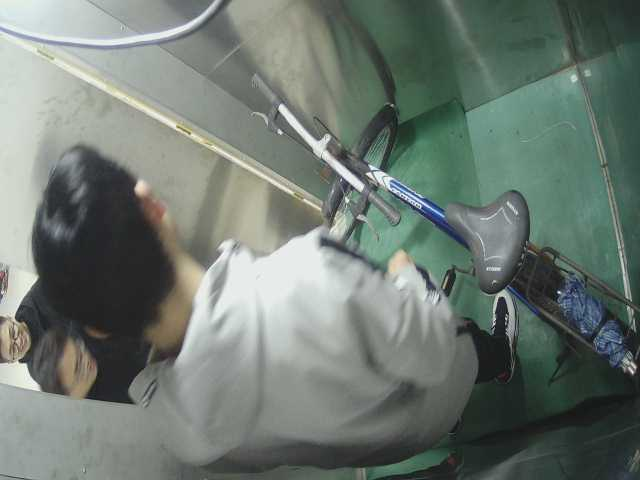bicycle: (242, 63, 640, 381)
person: (33, 144, 518, 472), (37, 329, 151, 418), (1, 265, 50, 368)
